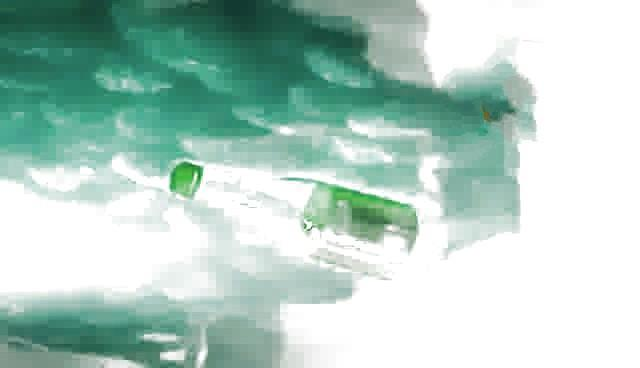Plastic: (164, 157, 460, 297)
